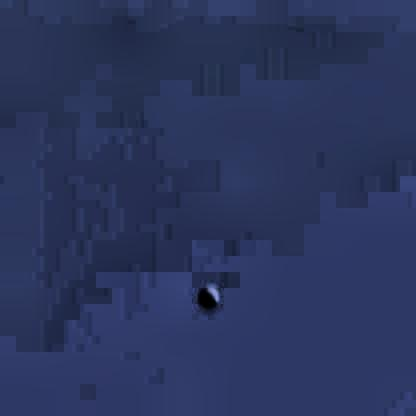golfball: (196, 282, 218, 306)
